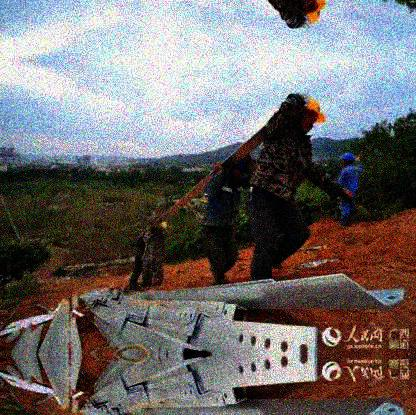helmet: (282, 1, 326, 29), (298, 96, 325, 136), (231, 159, 250, 181), (341, 153, 355, 167), (158, 220, 169, 234)
